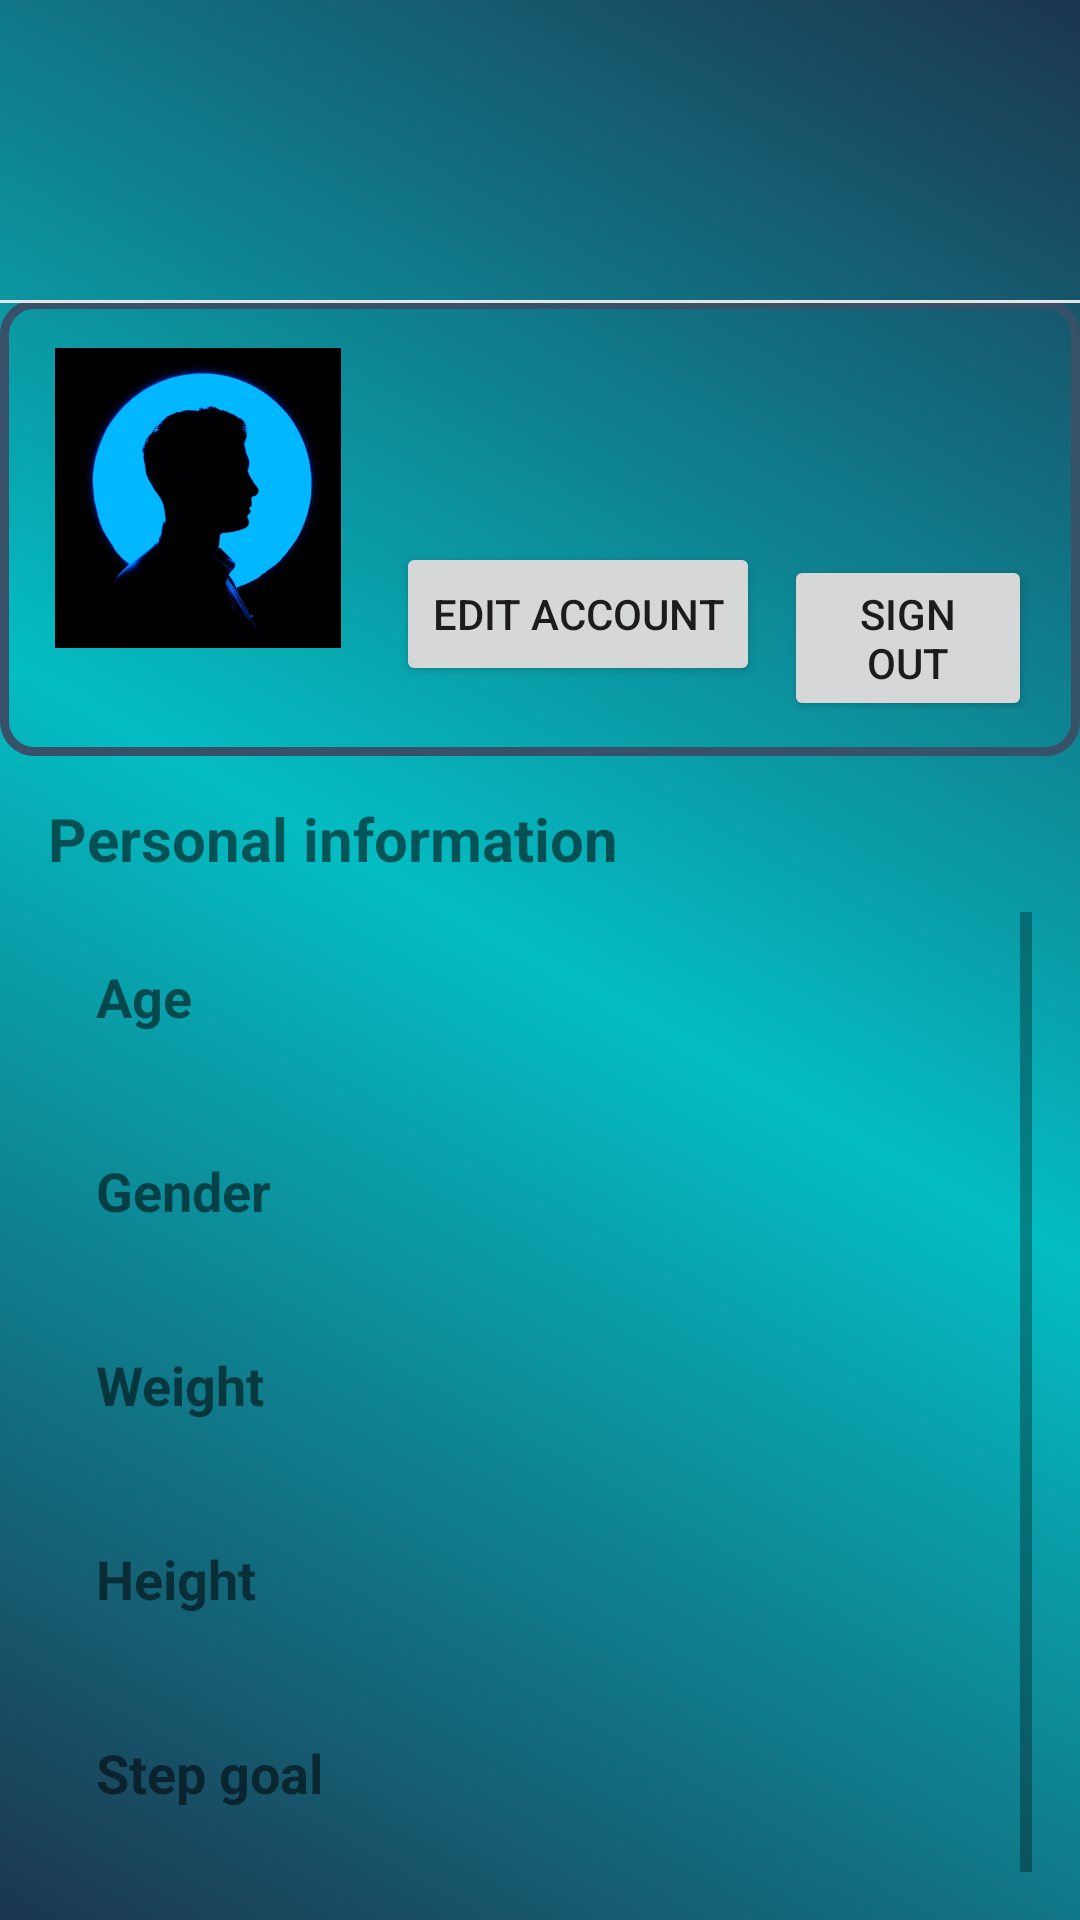

Where to tap for icons on this 1080px x 1920px app screen, as (x,y):
Profile picture: (198,498)
